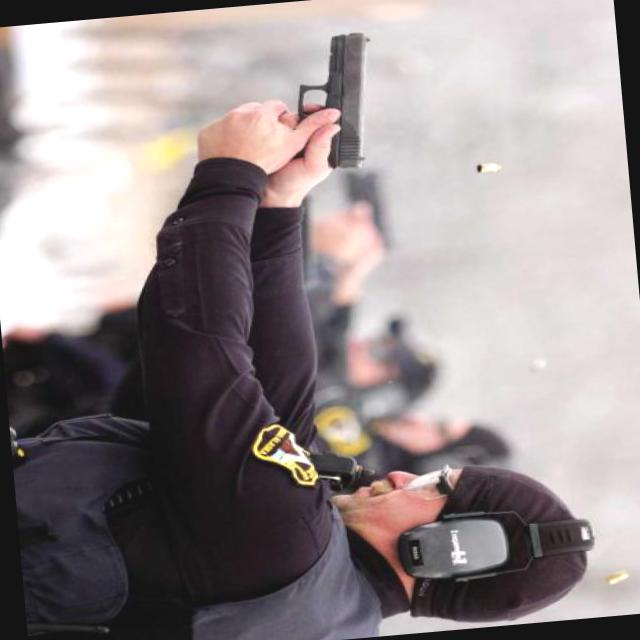handgun: (252, 24, 396, 186)
